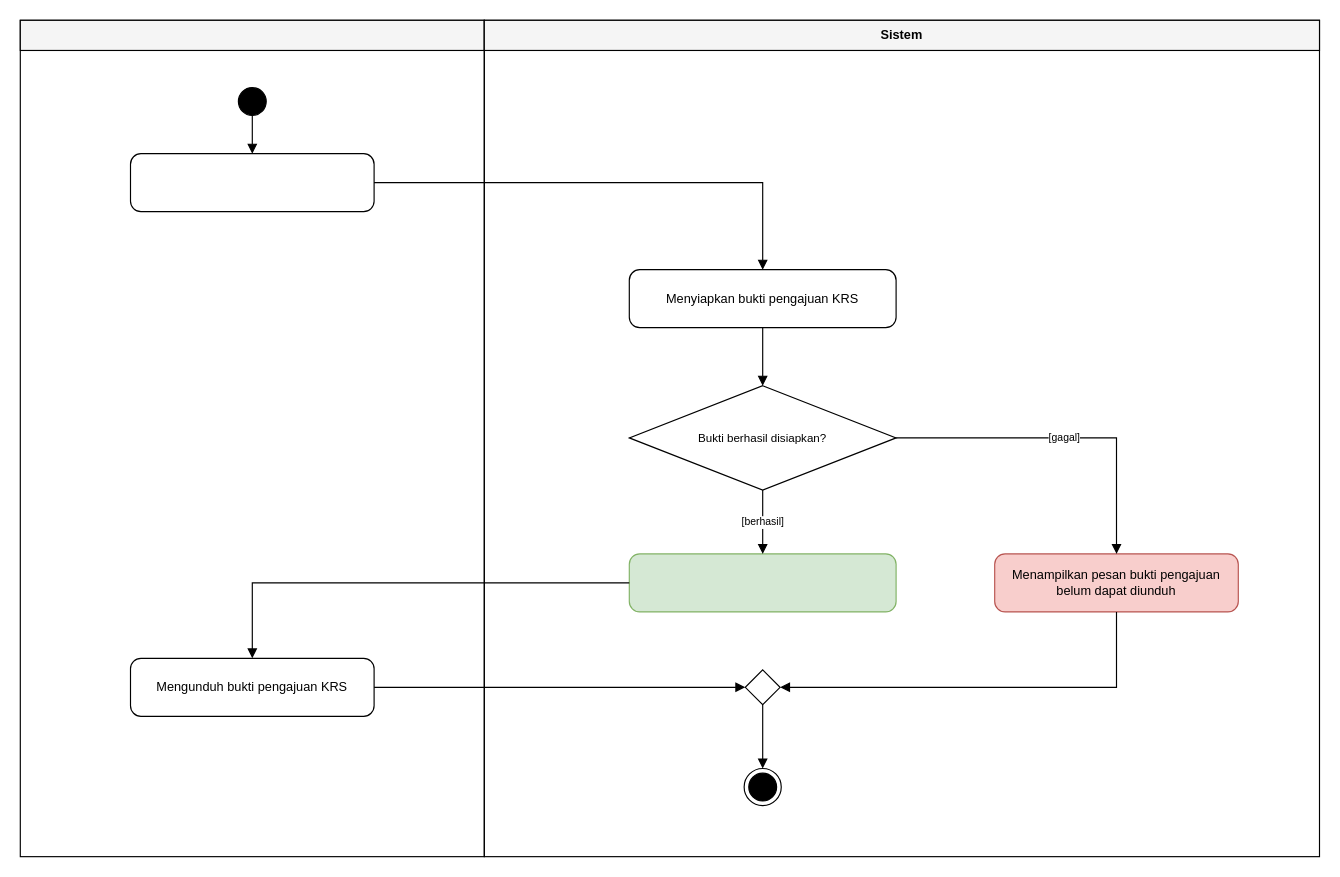
The diagram is 1340 pixels wide and 877 high, and some of its shapes have lost their labels. The box of each missing label's shape, as (x1, y1, x2, y2) in pixels:
Mahasiswa: (19, 19, 484, 50)
Memilih mengunduh bukti pada konfirmasi pengajuan KRS: (129, 153, 374, 212)
Menyediakan bukti pengajuan KRS untuk diunduh: (628, 553, 896, 612)
